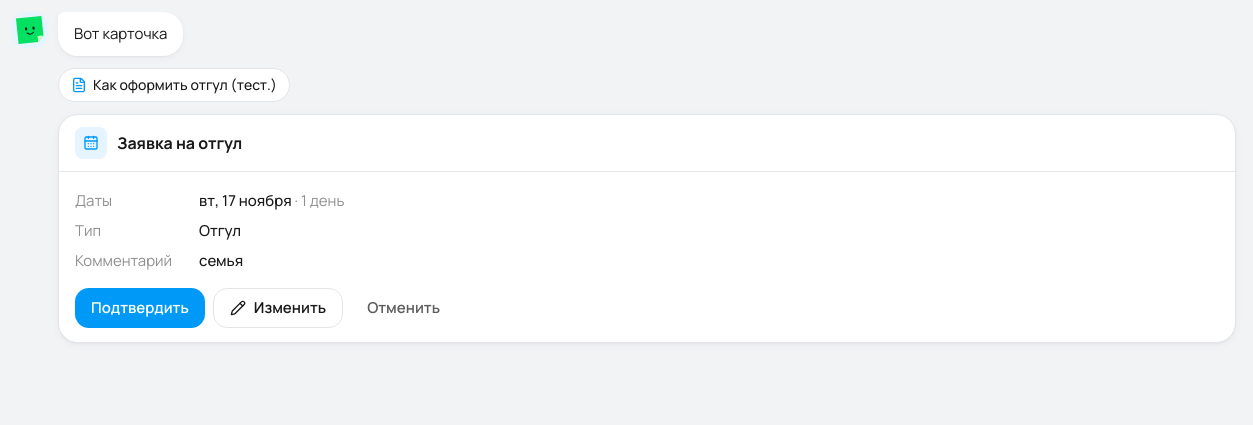
Test case: ActionCard: leave_request › ошибка сети при подтверждении → текст и «Повторить»
This screenshot has width=1253, height=425.
Click the button "Подтвердить".
click(140, 308)  # box [75,288,205,328]
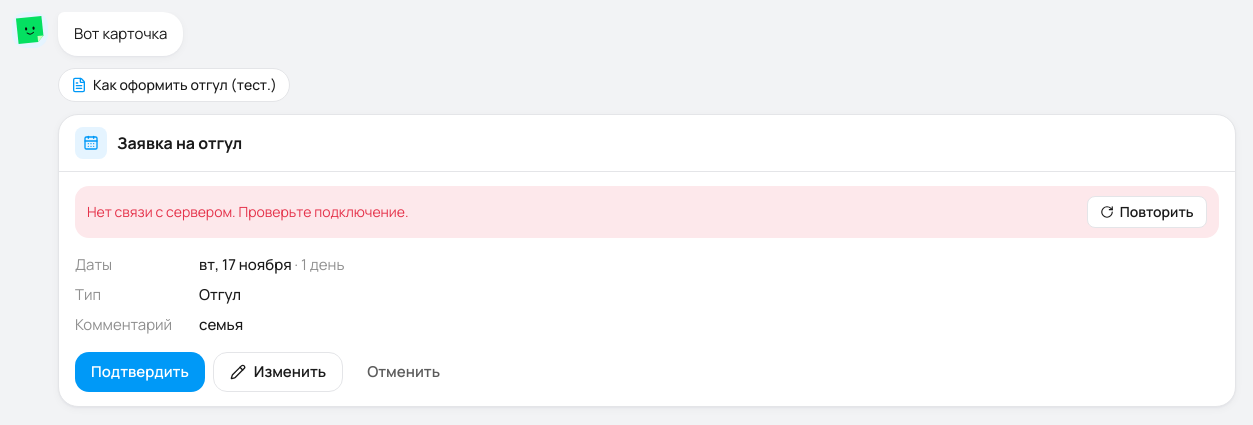
Now the text "Нет связи с сервером. Проверьте подключение." is shown, box [87,202,409,221]
Click the button "Повторить".
click(1147, 212)  # box [1087,196,1207,228]
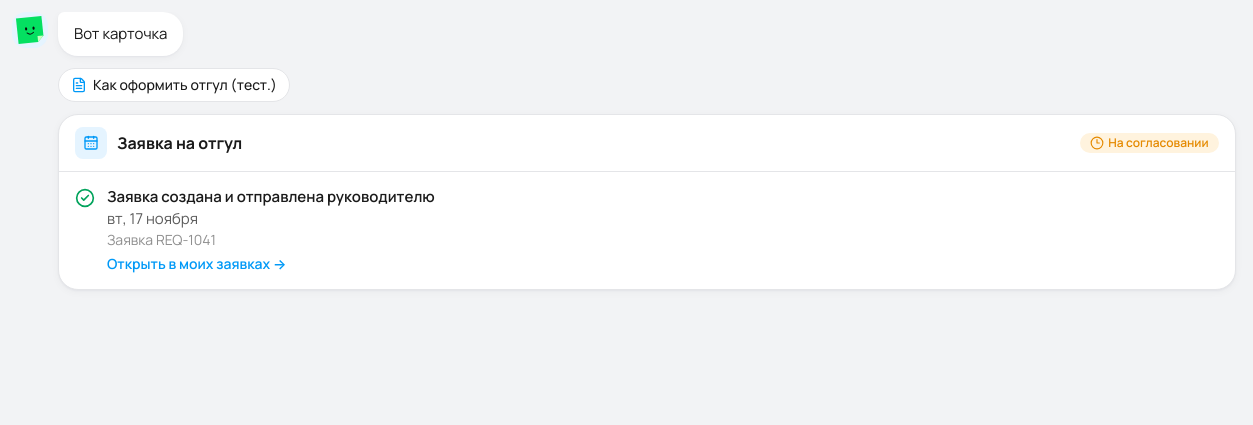
Now the text "На согласовании" is shown, box [1080,133,1219,153]
